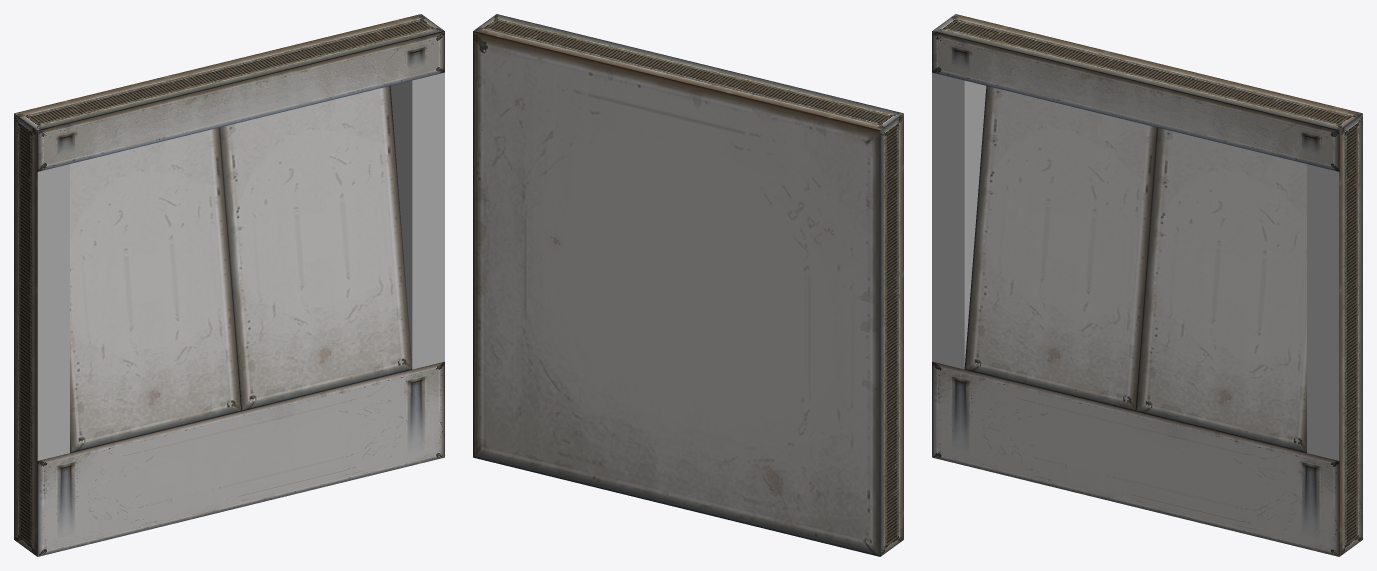
File: scifi_wall5_2.FBX
3 views of the same model, side by side, from view 1: azimuth 30°, elevation 25°; view 2: azimuth 150°, elevation 25°; view 3: azimuth 330°, elevation 25° (orthographic).
Parts seen in each view (by area): view 1: Plane027; view 2: Plane027; view 3: Plane027.
Part boxes in pixels (x1,y1,x2,y2): Plane027: [14, 14, 444, 556]; Plane027: [473, 14, 903, 556]; Plane027: [932, 14, 1362, 556].
Size of the model in its own units: 254 by 254 by 25.4.
